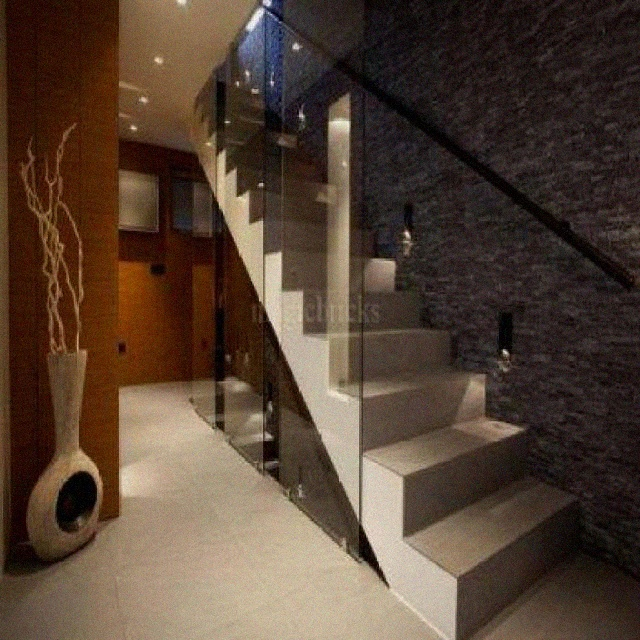stair: (172, 21, 605, 638)
